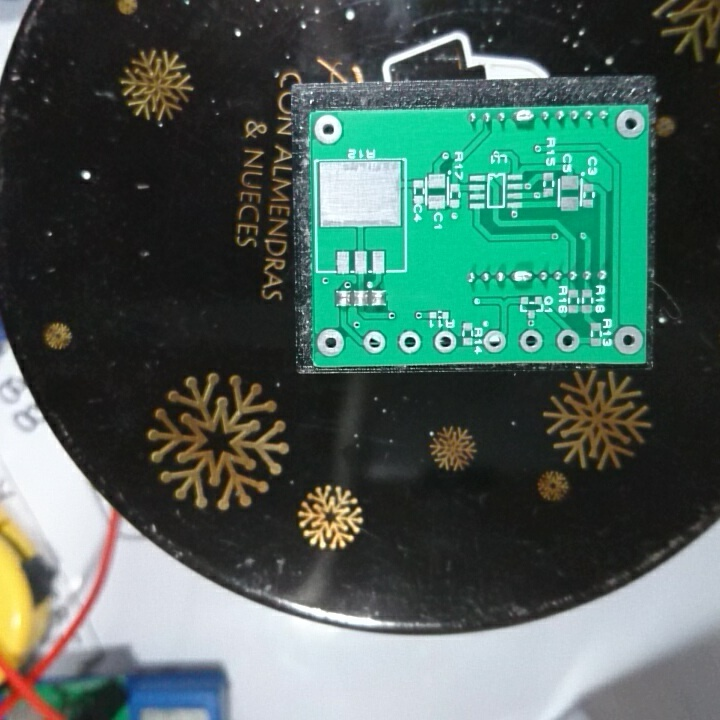F: (612, 106, 646, 141), (312, 112, 346, 146), (316, 326, 347, 360), (613, 323, 645, 355), (359, 329, 389, 356), (397, 327, 425, 355), (480, 326, 507, 354), (519, 326, 547, 353), (432, 328, 459, 355), (553, 326, 581, 352)
P: (507, 266, 536, 290), (511, 107, 536, 129)
